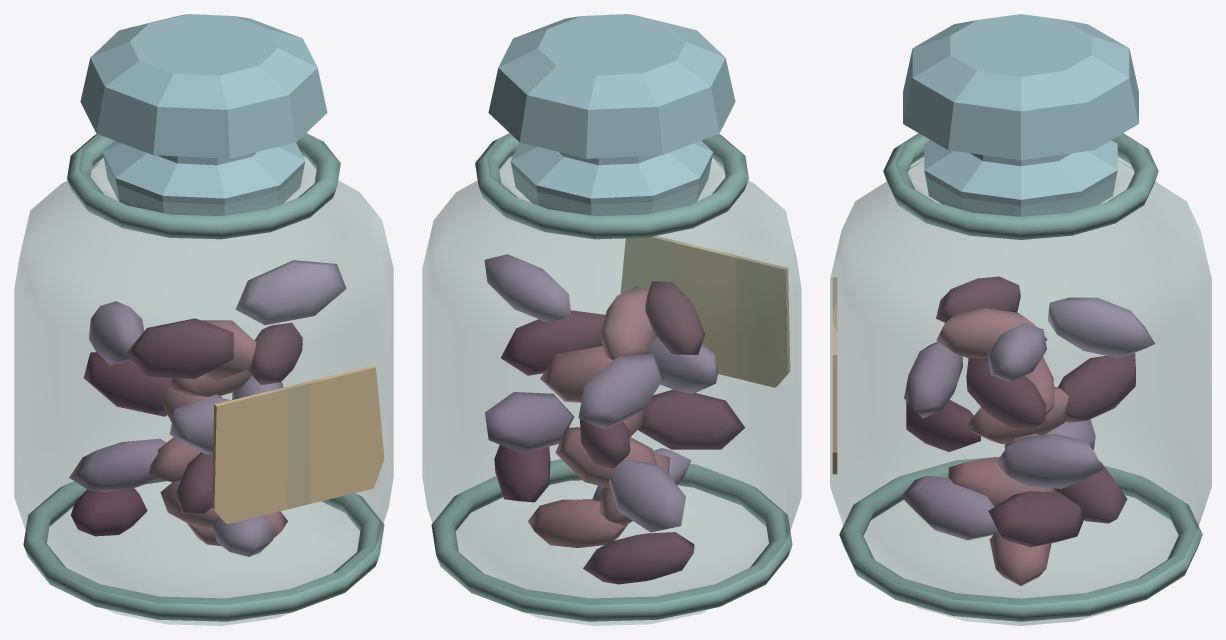
The model's file is glass_jar.glb.
The picture shows the model from 3 angles, left to right: view 1: azimuth 30°, elevation 25°; view 2: azimuth 150°, elevation 25°; view 3: azimuth 270°, elevation 25°; orthographic projection.
Parts seen in each view (by area): view 1: glass_jar; view 2: glass_jar; view 3: glass_jar.
Boxes of the visible parts, left/top/right/bottom form: glass_jar: left=14, top=14, right=393, bottom=625; glass_jar: left=422, top=14, right=801, bottom=625; glass_jar: left=830, top=14, right=1211, bottom=625.
Bounding box in the file's own units: 0.16 × 0.24 × 0.16.
